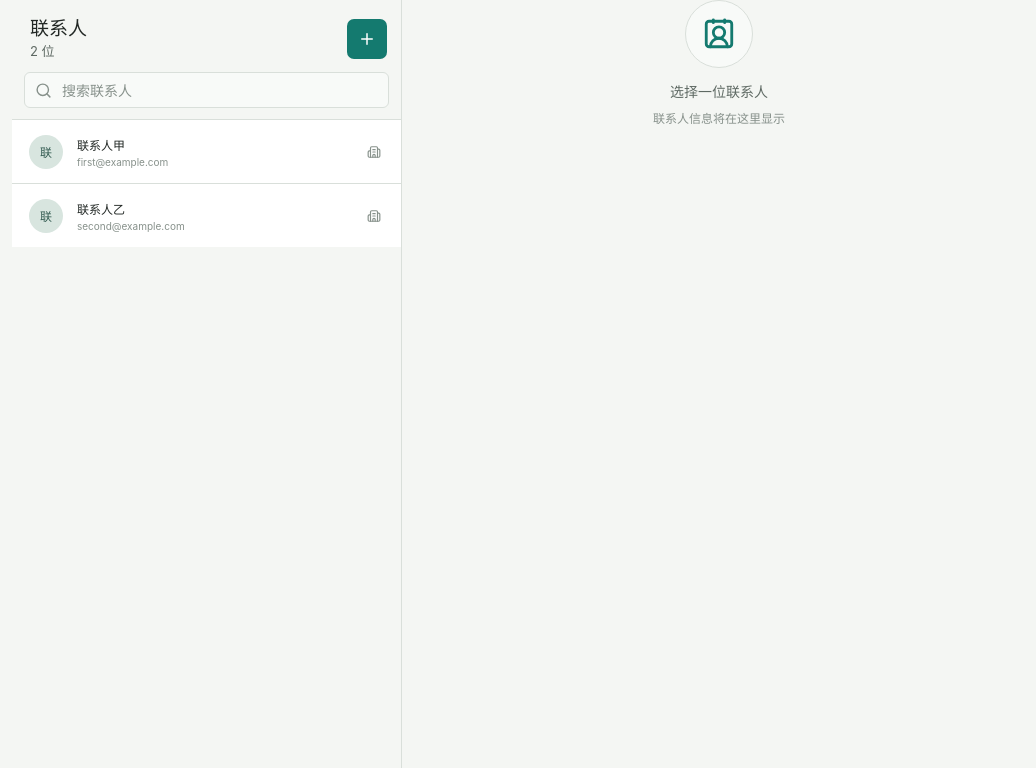
联系人编辑器 › 切换联系人后使用新联系人的初始值而不保留未保存内容
The width and height of the screenshot is (1036, 768).
Click the button "联 联系人甲 first@example.com": click(46, 152) x1=12 y1=119 x2=401 y2=183
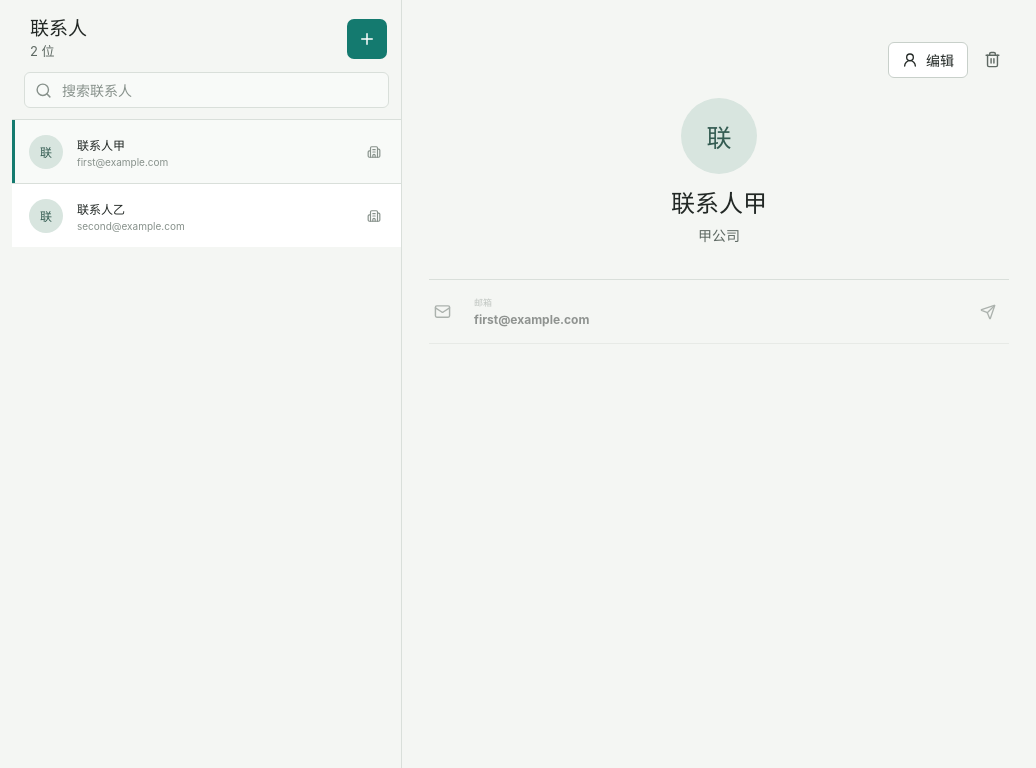
Click the button "编辑": click(928, 60) x1=888 y1=42 x2=968 y2=78
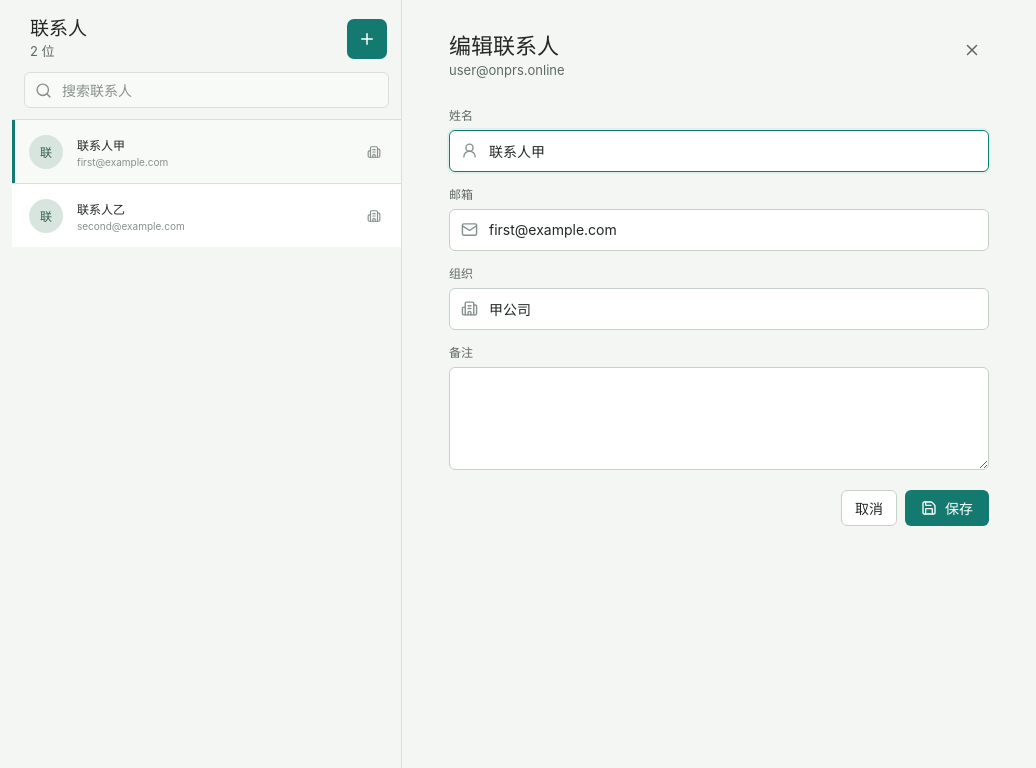
Expected: the field labelled "姓名" holds "联系人甲"
Replace the text in the field labelled "姓名" with "未保存名称": (732, 150) x1=487 y1=130 x2=977 y2=170
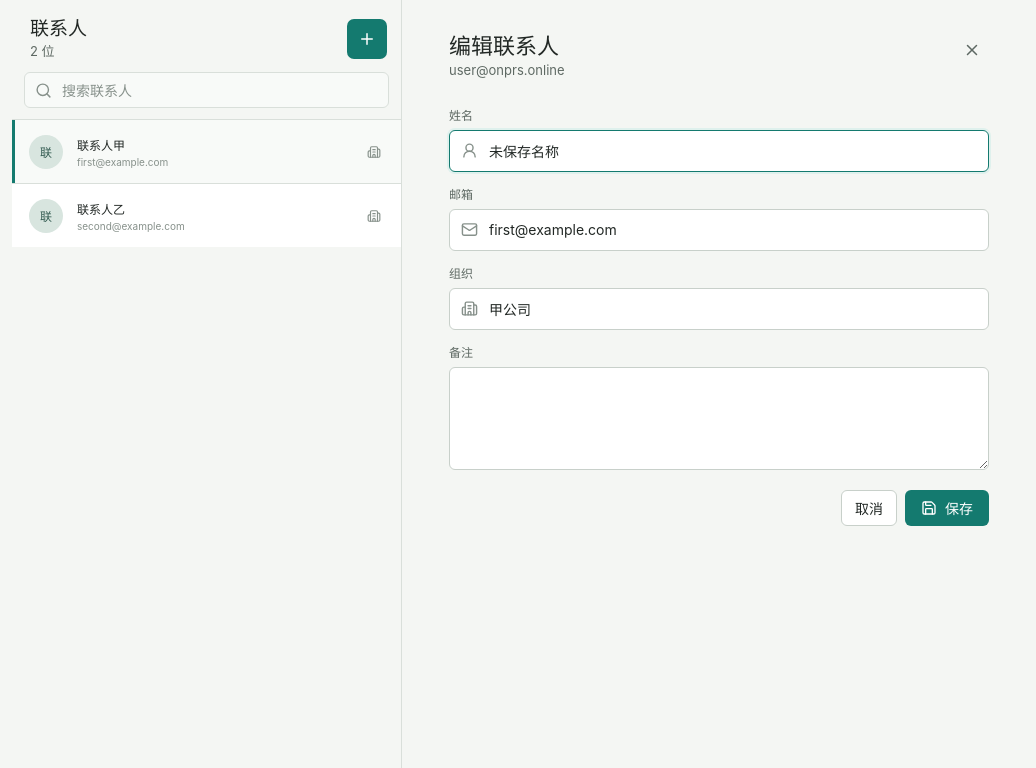
Click the button "联 联系人乙 second@example.com": click(46, 216) x1=12 y1=183 x2=401 y2=247
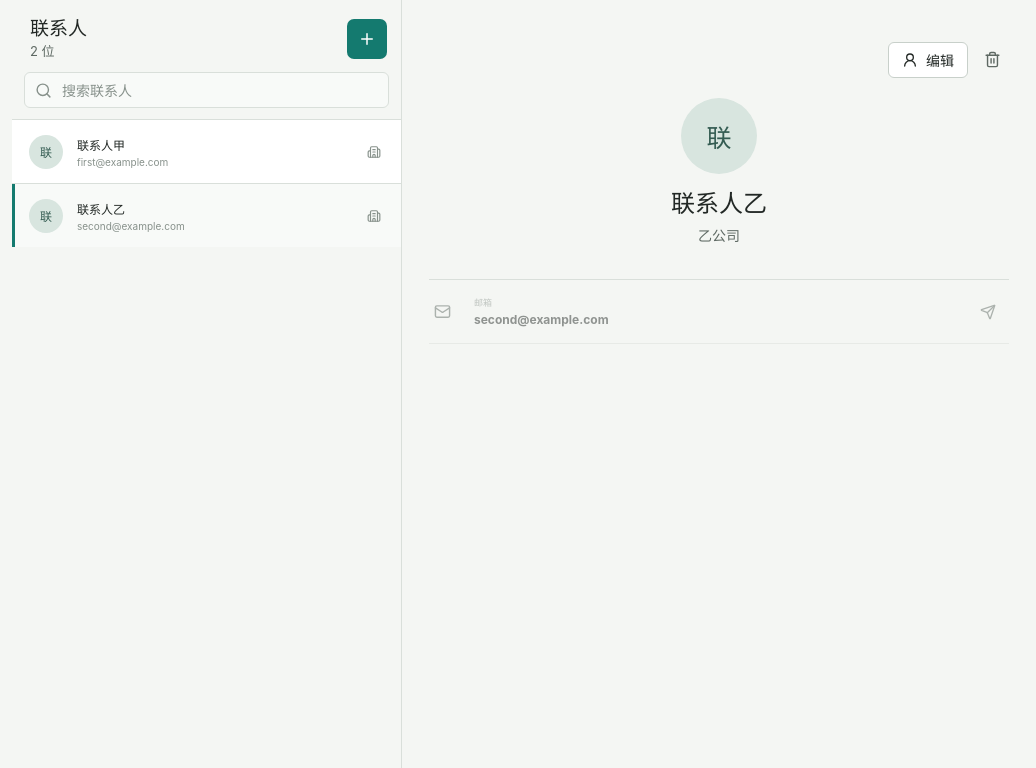
Click the button "编辑": click(928, 60) x1=888 y1=42 x2=968 y2=78
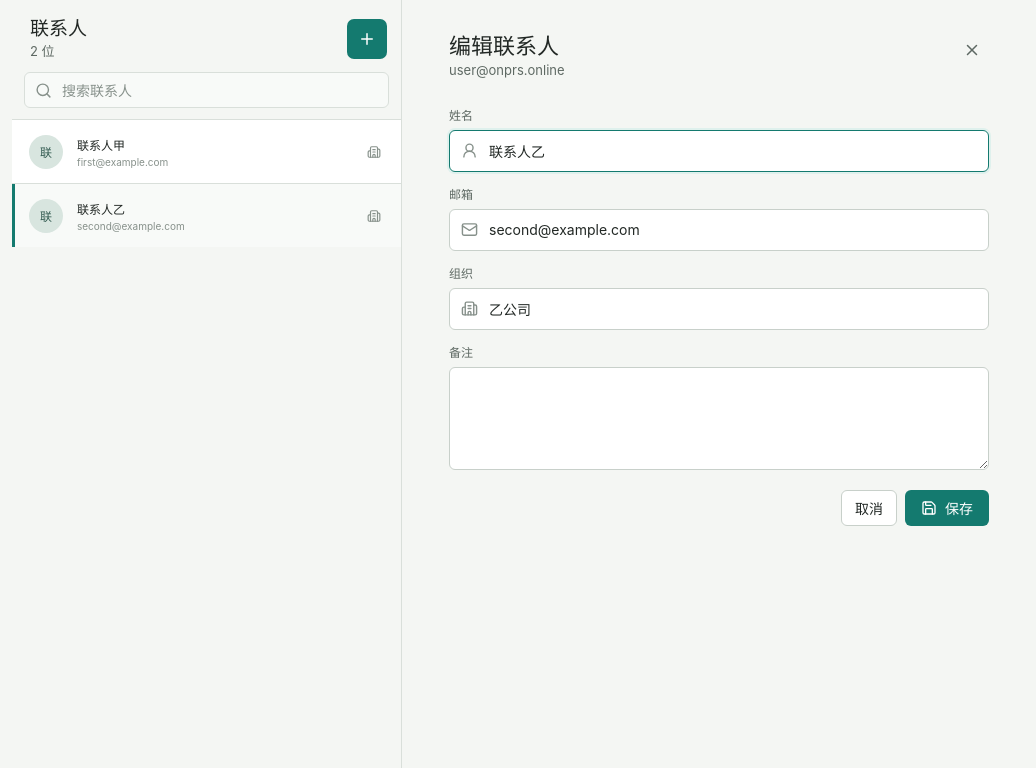
Expected: the field labelled "姓名" holds "联系人乙", x1=487 y1=130 x2=977 y2=170
Expected: the field labelled "邮箱" holds "second@example.com", x1=487 y1=210 x2=977 y2=250
